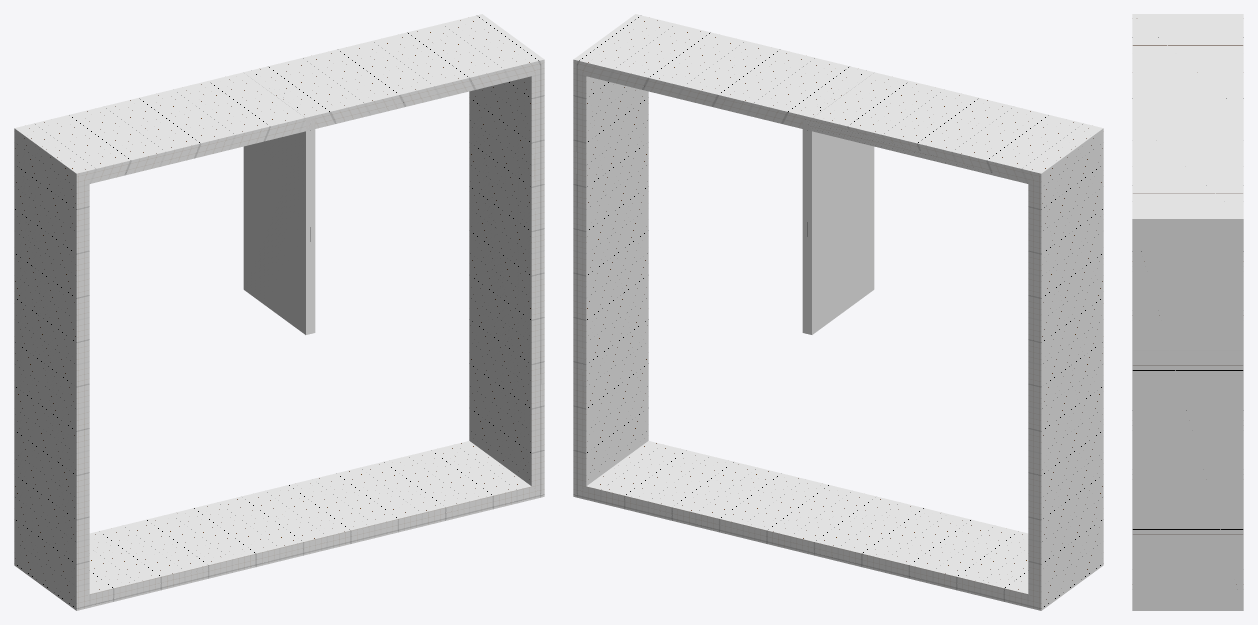
3 renders of one model, left to right at view 1: azimuth 30°, elevation 25°; view 2: azimuth 150°, elevation 25°; view 3: azimuth 270°, elevation 25°, orthographic. The views are drawn at different scales.
Parts seen in each view (by area): view 1: Plane; view 2: Plane; view 3: Plane.
Part boxes in pixels (box(x1,y1,x2,y2)): Plane: box(14, 14, 544, 610); Plane: box(573, 14, 1103, 610); Plane: box(1132, 14, 1243, 610).
Bounding box in the file's own units: 13.02 × 11.63 × 3.
1 material, 1 textured.
